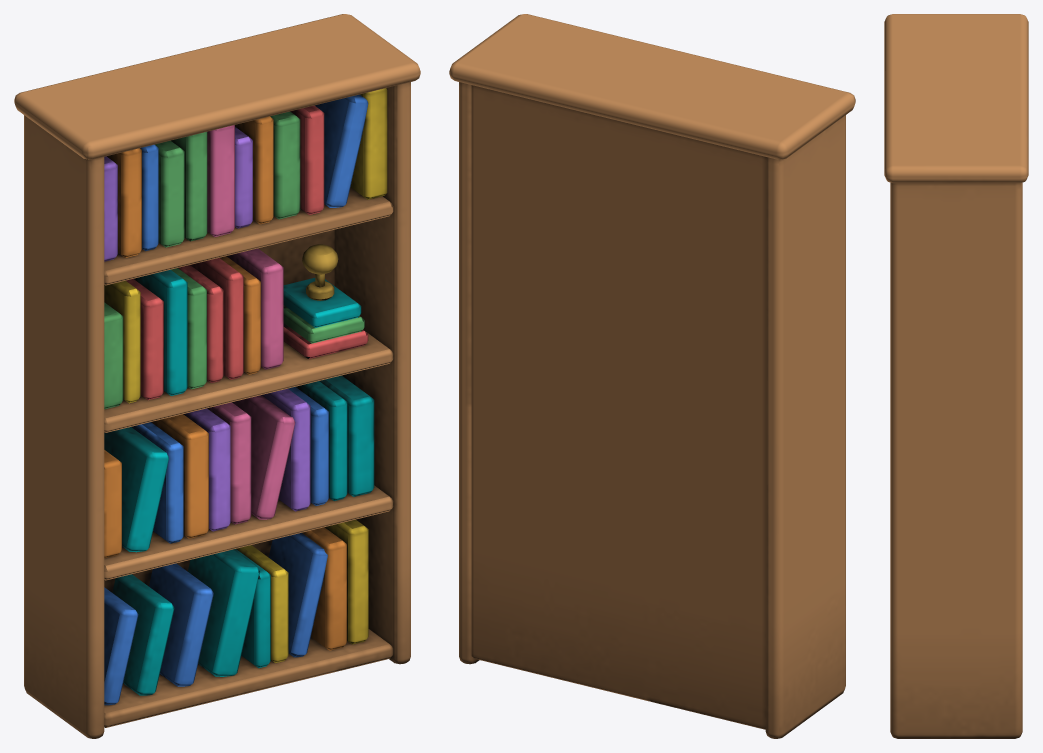
The model's file is bookshelf.glb.
3 views of the same model, side by side, from view 1: azimuth 30°, elevation 25°; view 2: azimuth 150°, elevation 25°; view 3: azimuth 270°, elevation 25° (orthographic). The views are drawn at different scales.
Parts seen in each view (by area): view 1: bookshelf; view 2: bookshelf; view 3: bookshelf.
Part boxes in pixels (<box>): bookshelf: <box>14,14,420,738</box>; bookshelf: <box>449,14,855,738</box>; bookshelf: <box>884,14,1028,738</box>.
Size of the model in its own units: 0.96 by 1.63 by 0.37.
11 materials, 11 textured.
